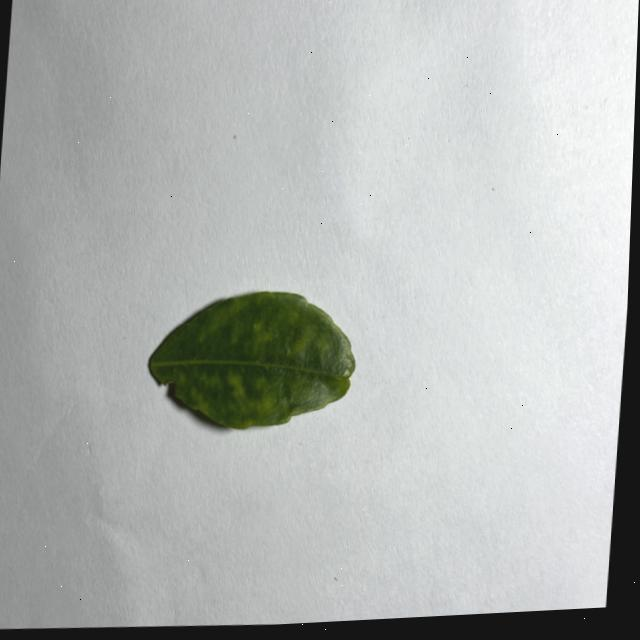greening: (148, 292, 353, 428)
